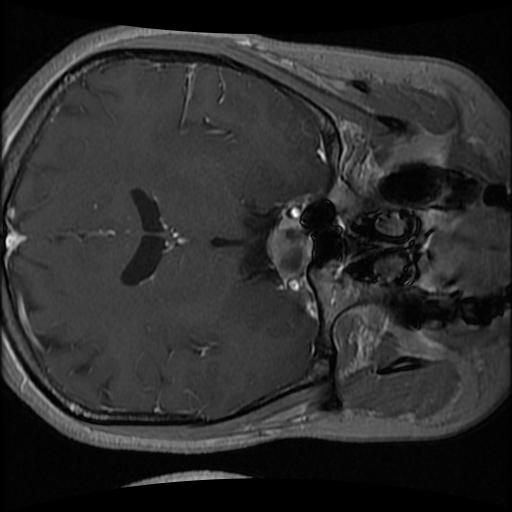pituitary tumour: (266, 217, 312, 280)
